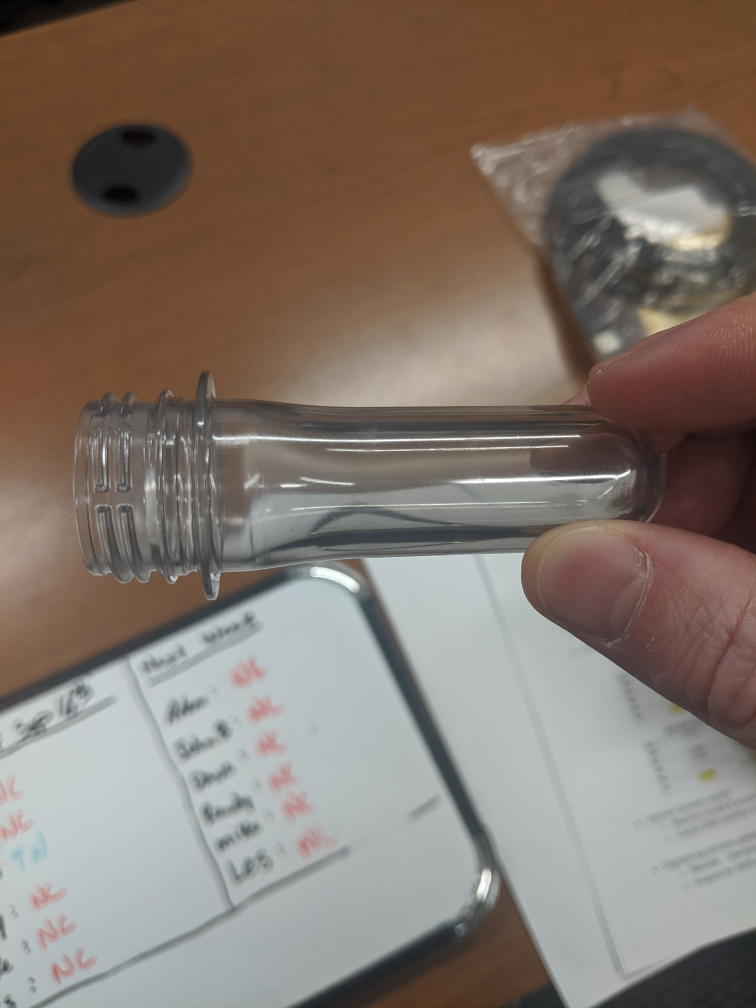preform: (55, 364, 681, 614)
